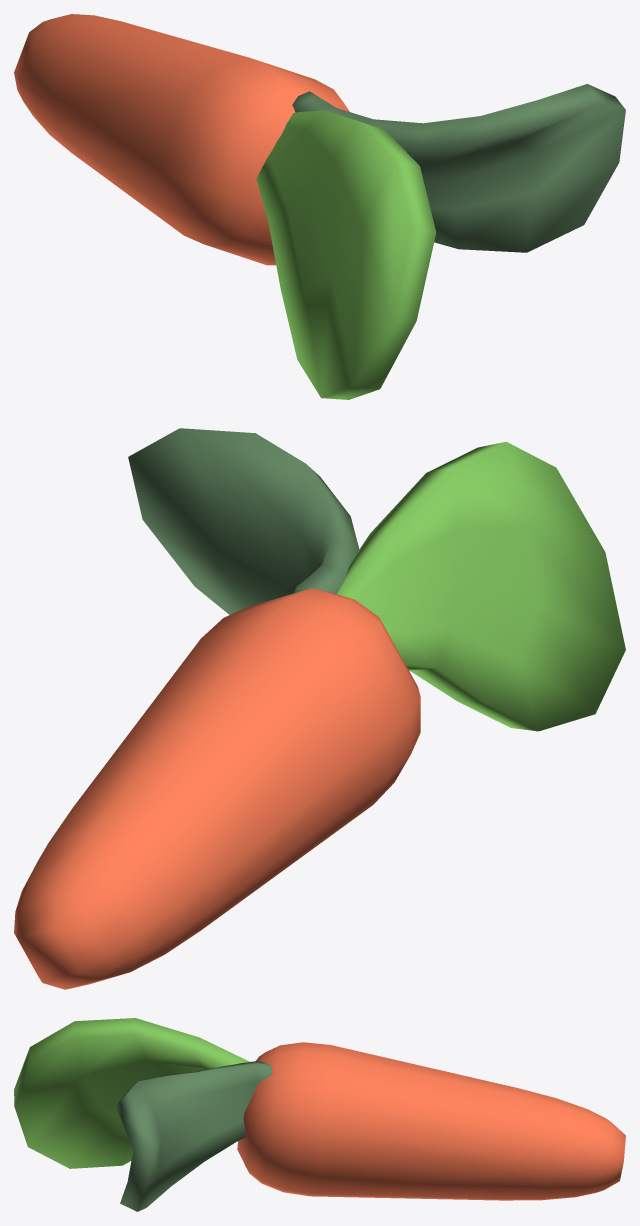
The model's file is Wortel.fbx.
3 renders of one model, top to bottom at view 1: azimuth 30°, elevation 25°; view 2: azimuth 150°, elevation 25°; view 3: azimuth 270°, elevation 25°, orthographic. The views are drawn at different scales.
Visible parts, largest first — view 1: carrot_2, leaves.002, leaves.001; view 2: carrot_2, leaves.002, leaves.001; view 3: carrot_2, leaves.002, leaves.001.
Boxes of the visible parts, bbox=[...] form: carrot_2: bbox=[14, 14, 349, 265]; leaves.002: bbox=[256, 110, 436, 399]; leaves.001: bbox=[292, 84, 625, 252]; carrot_2: bbox=[14, 588, 420, 989]; leaves.002: bbox=[336, 441, 625, 731]; leaves.001: bbox=[128, 428, 359, 614]; carrot_2: bbox=[237, 1042, 625, 1200]; leaves.002: bbox=[14, 1018, 249, 1168]; leaves.001: bbox=[115, 1061, 272, 1211].
Bounding box in the file's own units: 78.48 × 49.92 × 162.
